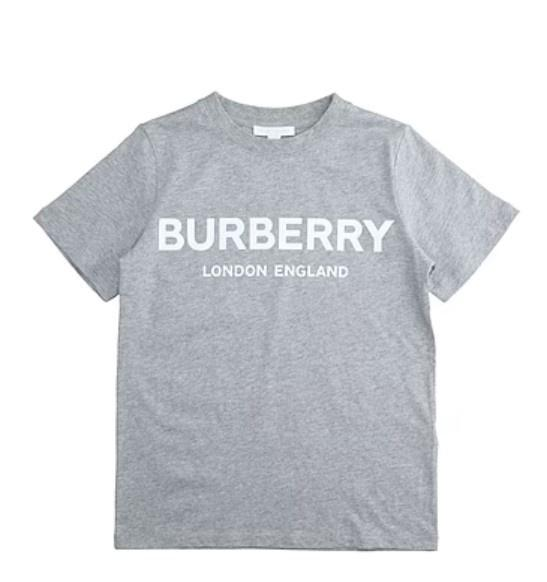BURBERRY: (159, 218, 396, 254)
